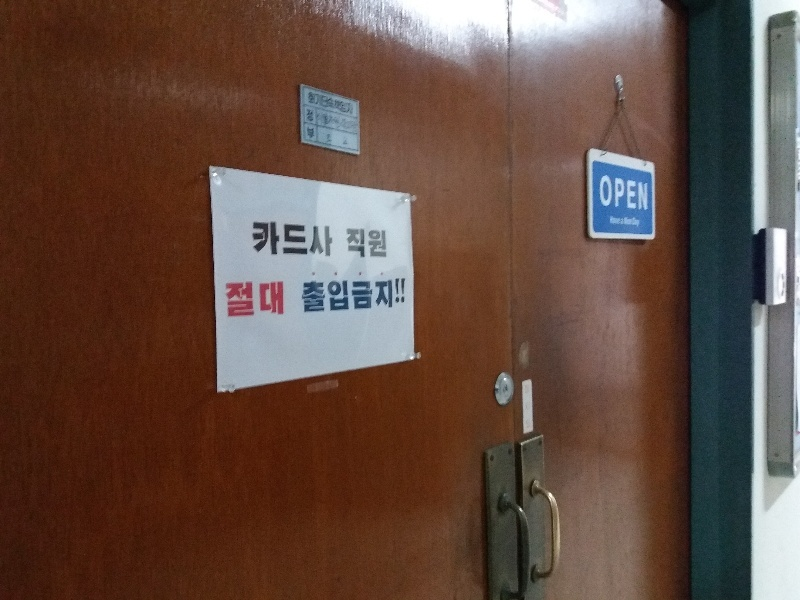text: (225, 281, 240, 318), (241, 281, 256, 318), (257, 281, 272, 318), (609, 174, 624, 211), (625, 174, 640, 211), (257, 221, 272, 257), (273, 221, 288, 257), (289, 221, 304, 257), (305, 221, 320, 257), (305, 277, 320, 313), (321, 277, 336, 313), (337, 277, 352, 313), (353, 277, 368, 313), (369, 277, 384, 313), (385, 277, 400, 313), (321, 221, 334, 257), (353, 228, 368, 259), (369, 228, 384, 259), (273, 281, 284, 318), (321, 111, 336, 134), (337, 111, 352, 134), (599, 174, 608, 211), (641, 174, 649, 211), (337, 99, 352, 117), (321, 91, 335, 110), (523, 384, 528, 430), (308, 91, 320, 110), (625, 214, 641, 228), (250, 221, 256, 257), (306, 108, 320, 123), (609, 214, 624, 228), (346, 228, 352, 259), (401, 277, 406, 313), (307, 127, 320, 139), (337, 133, 349, 146), (326, 133, 336, 146), (301, 277, 304, 313), (385, 228, 388, 259), (316, 111, 320, 134), (353, 111, 357, 134), (529, 384, 531, 430), (334, 99, 336, 117), (353, 99, 354, 117)
